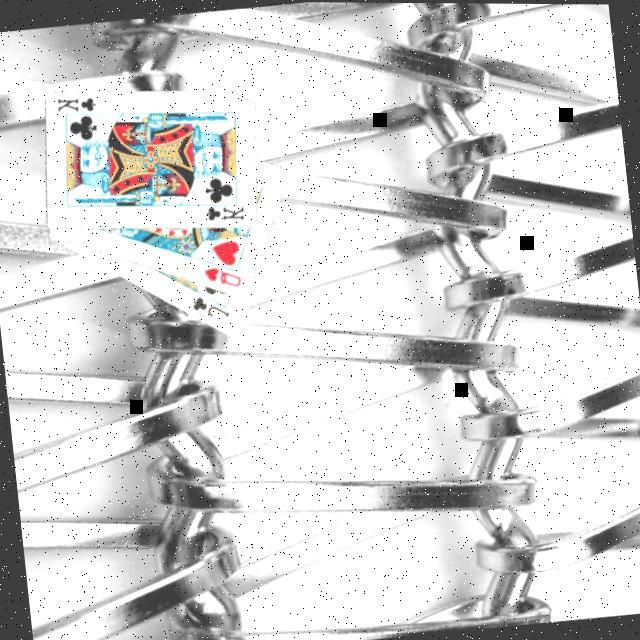JC: (189, 292, 234, 326)
KC: (199, 197, 249, 228), (55, 92, 105, 123)
QH: (201, 262, 246, 294)
